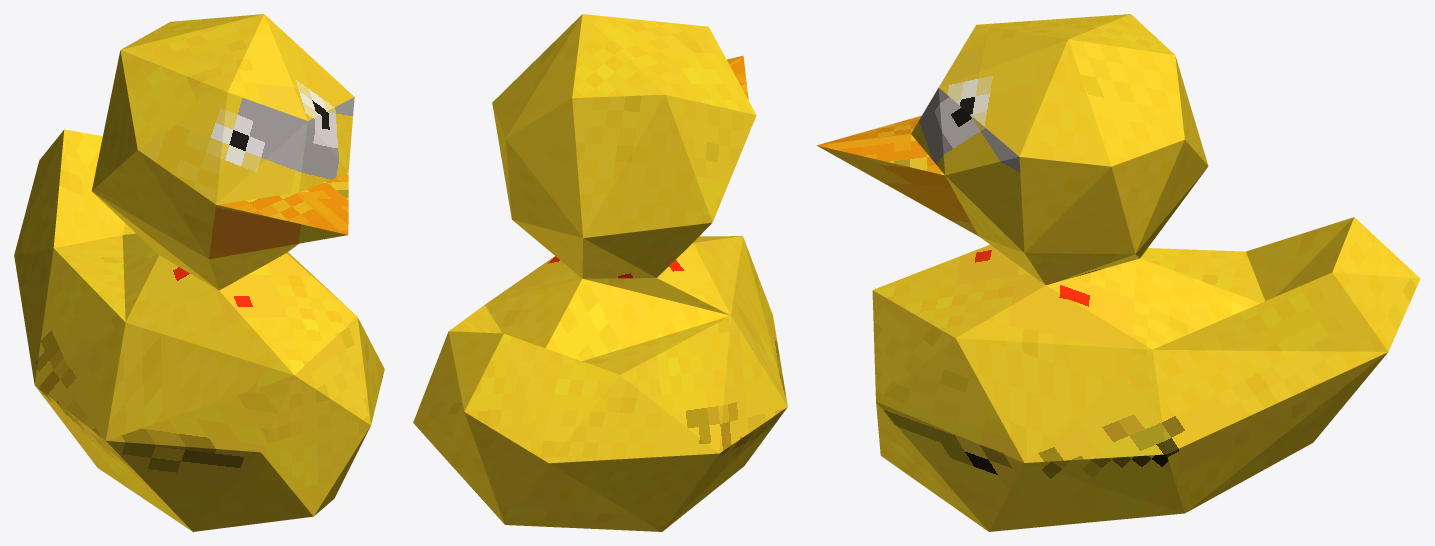
The model's file is Duck.glb.
The picture shows the model from 3 angles, left to right: view 1: azimuth 30°, elevation 25°; view 2: azimuth 150°, elevation 25°; view 3: azimuth 270°, elevation 25°; orthographic projection. The views are drawn at different scales.
Visible parts, largest first — view 1: Duck; view 2: Duck; view 3: Duck.
Part boxes in pixels (x1,y1,x2,y2): Duck: (14, 14, 384, 531); Duck: (413, 14, 787, 531); Duck: (816, 14, 1420, 531).
Bounding box in the file's own units: 0.1402 × 0.2199 × 0.2526.
Materials: 1 (1 with a texture image).
